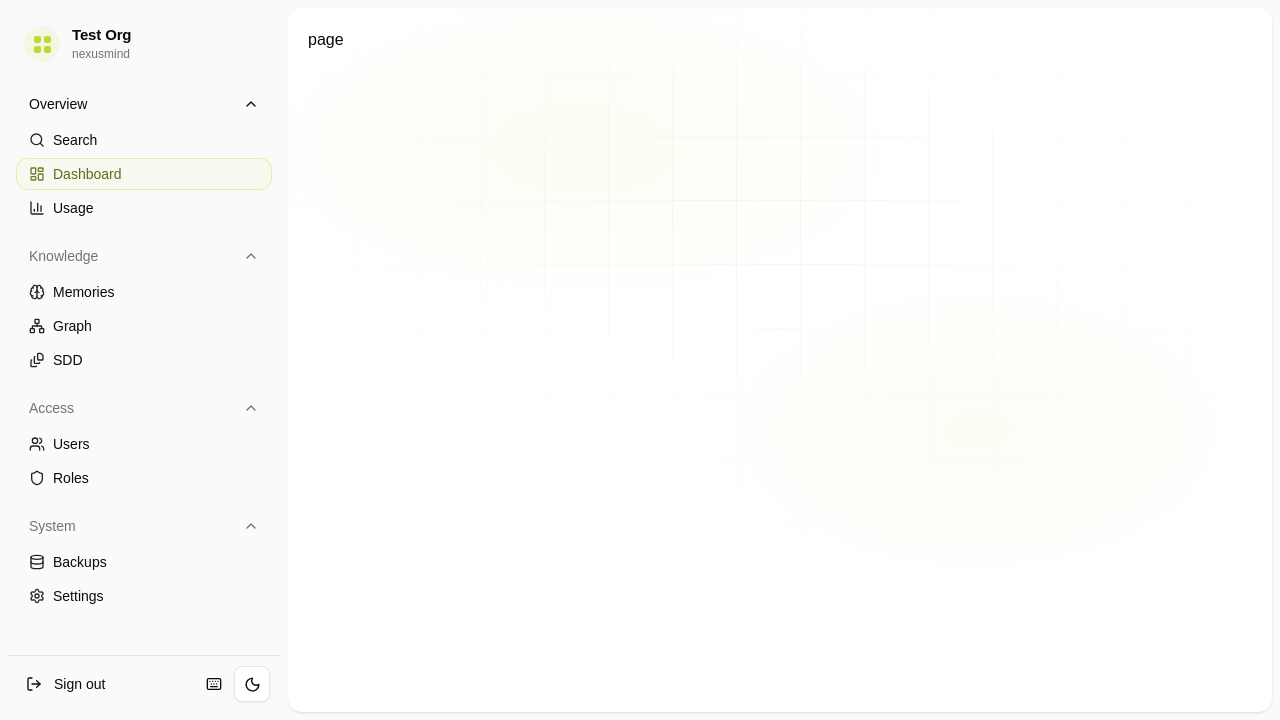
Test: Layout — SDD nav entry › toggles navigation groups and their links accessibly
Expected: the link "SDD" is shown, [29,352,83,368]
Click the button "Knowledge".
click(144, 256)  # box [16,236,272,276]
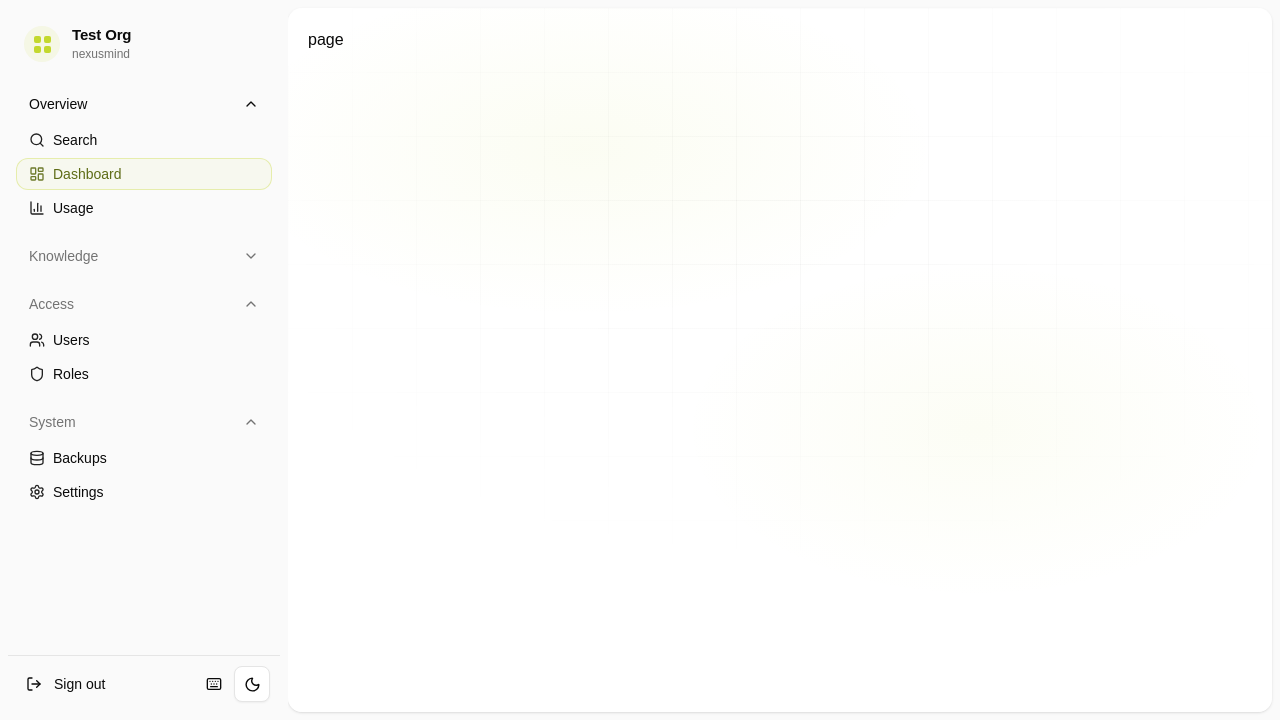
Now the button "Knowledge" is collapsed
Now the link "SDD" is gone
Click the button "Knowledge".
click(144, 256)  # box [16,236,272,276]
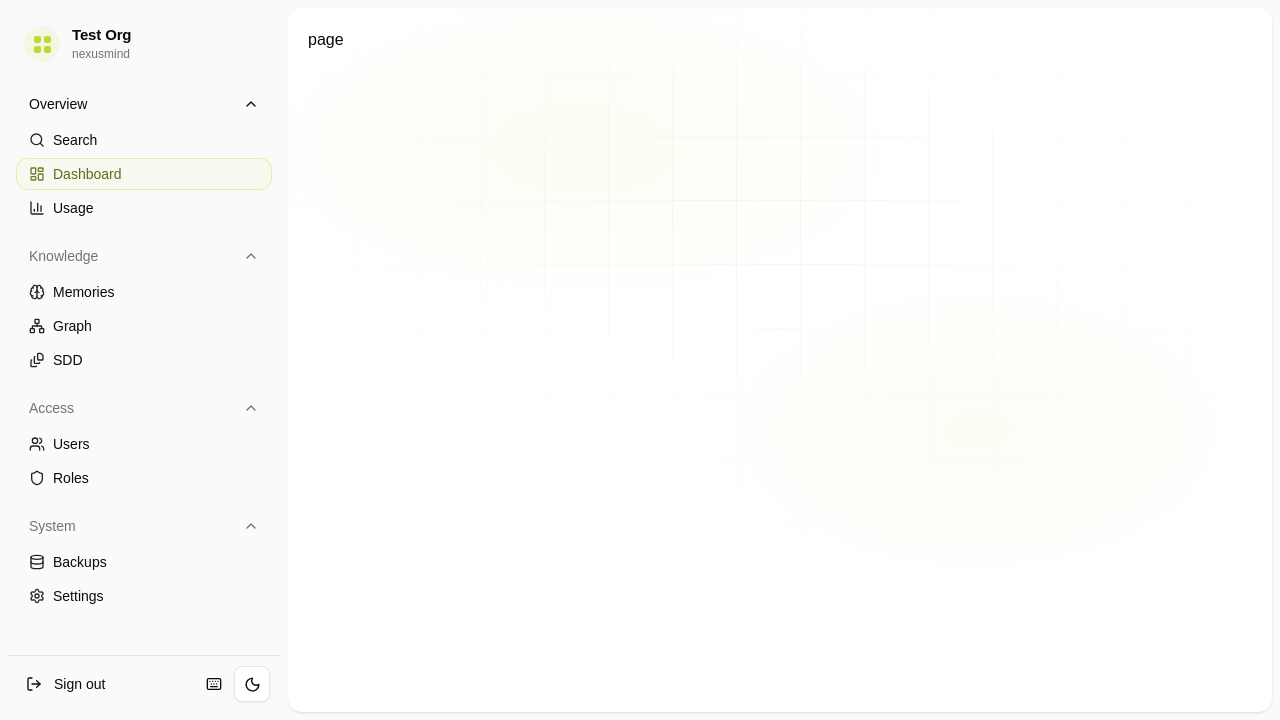
Now the button "Knowledge" is expanded, box [16,236,272,276]
Now the link "SDD" is shown, box [29,352,83,368]
